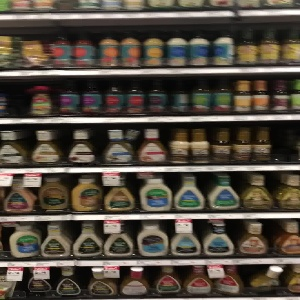void: (271, 121, 300, 167), (7, 76, 29, 117)
